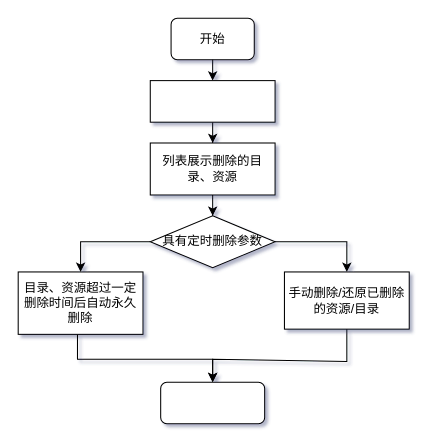
The diagram is 434 pixels wide and 448 high, and some of its shapes have lost their labels. The shapes that lost their labels are listed below. From the top down, each one's box as (x1, y1, x2, y2) in pixels, then its label:
(149, 80, 275, 122): 删除资源/目录管理
(160, 381, 265, 424): 结束
